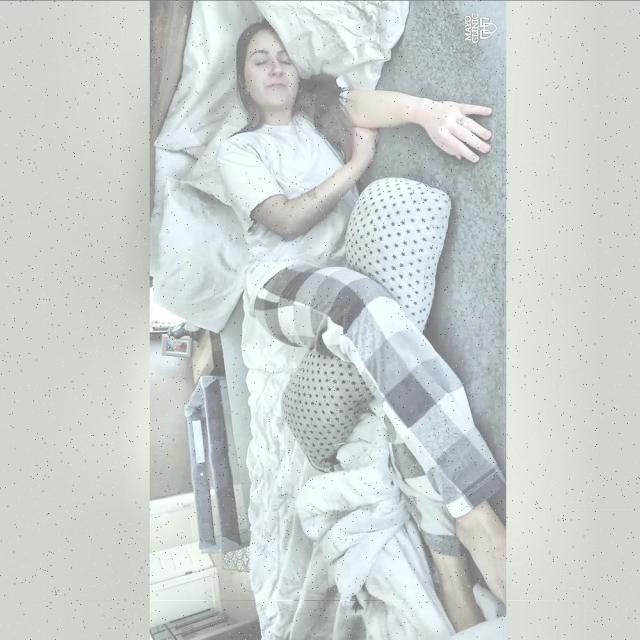Not_Supine: (218, 24, 504, 629)
